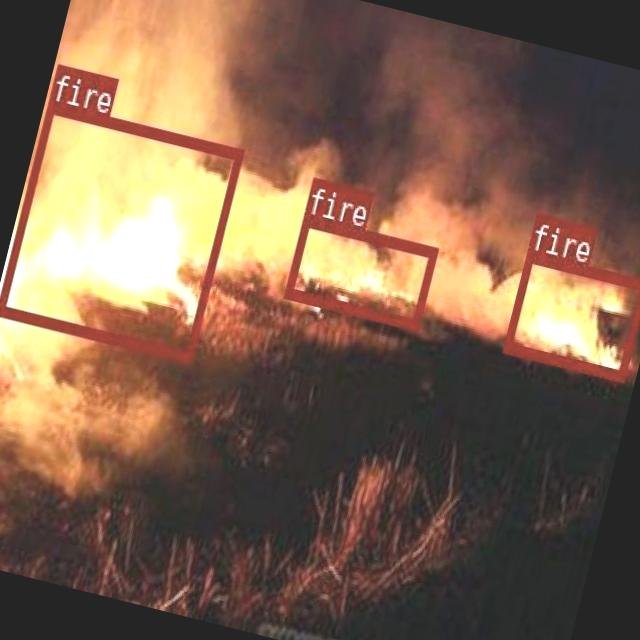fire: (0, 100, 243, 360), (502, 249, 640, 378), (283, 212, 436, 327)
